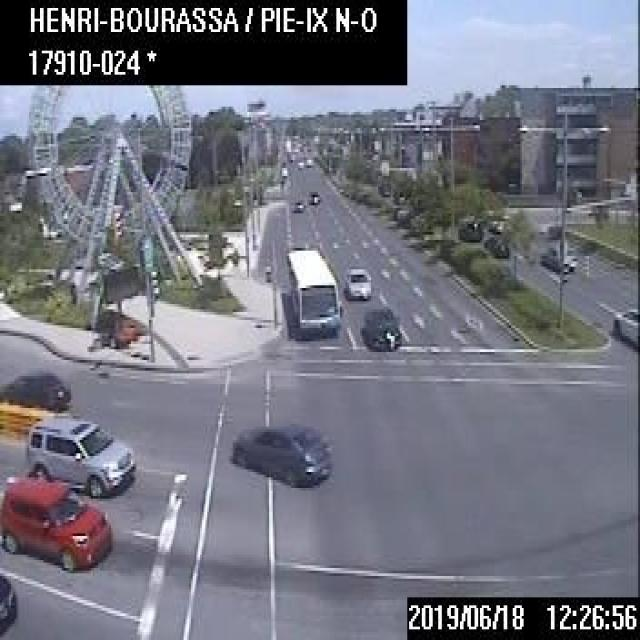bus: (285, 248, 342, 333)
construction: (99, 264, 138, 346), (580, 252, 588, 278)
vehicle: (0, 480, 111, 571), (24, 416, 134, 496), (229, 422, 331, 486), (0, 372, 69, 409), (362, 306, 400, 348), (536, 240, 574, 272), (483, 219, 518, 252), (611, 307, 638, 349), (0, 573, 16, 637), (344, 266, 370, 298), (457, 217, 481, 239), (289, 197, 304, 211), (306, 189, 318, 202), (296, 157, 303, 168), (304, 156, 312, 164)
